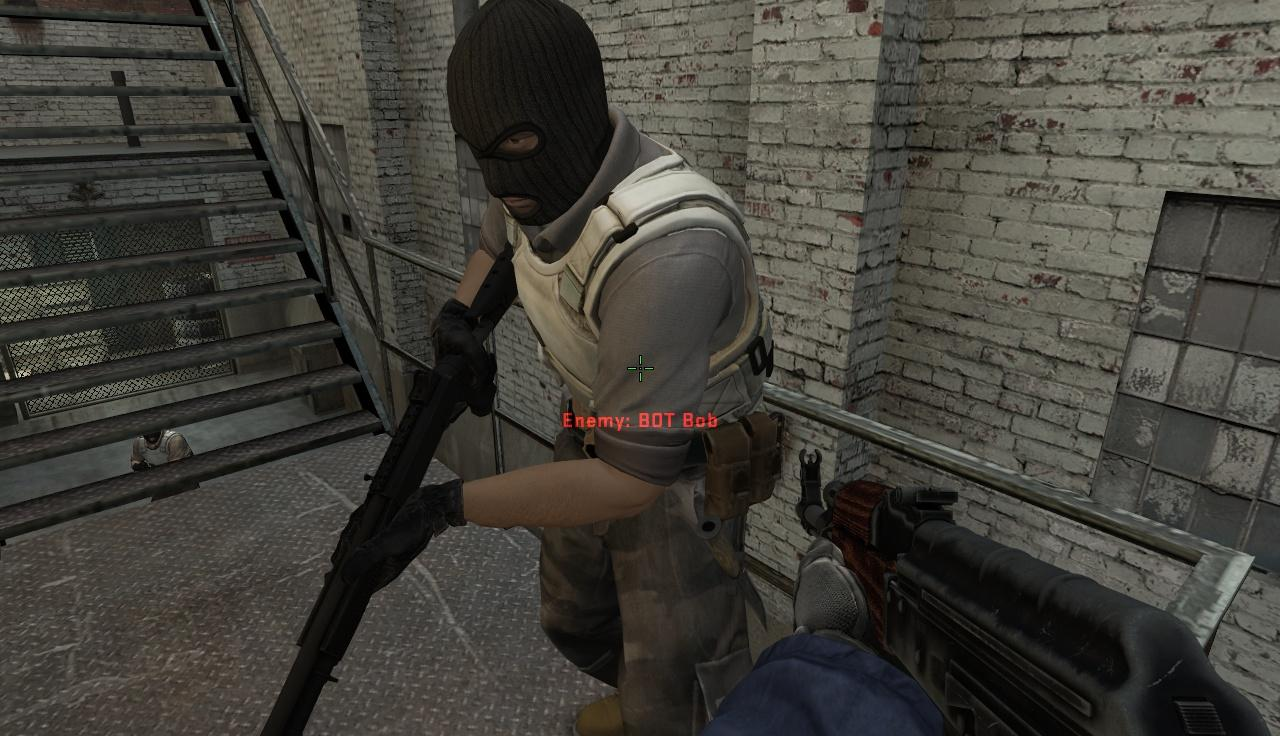rifle: (790, 444, 1280, 736)
tt: (444, 3, 783, 730)
tthead: (446, 6, 608, 219)
